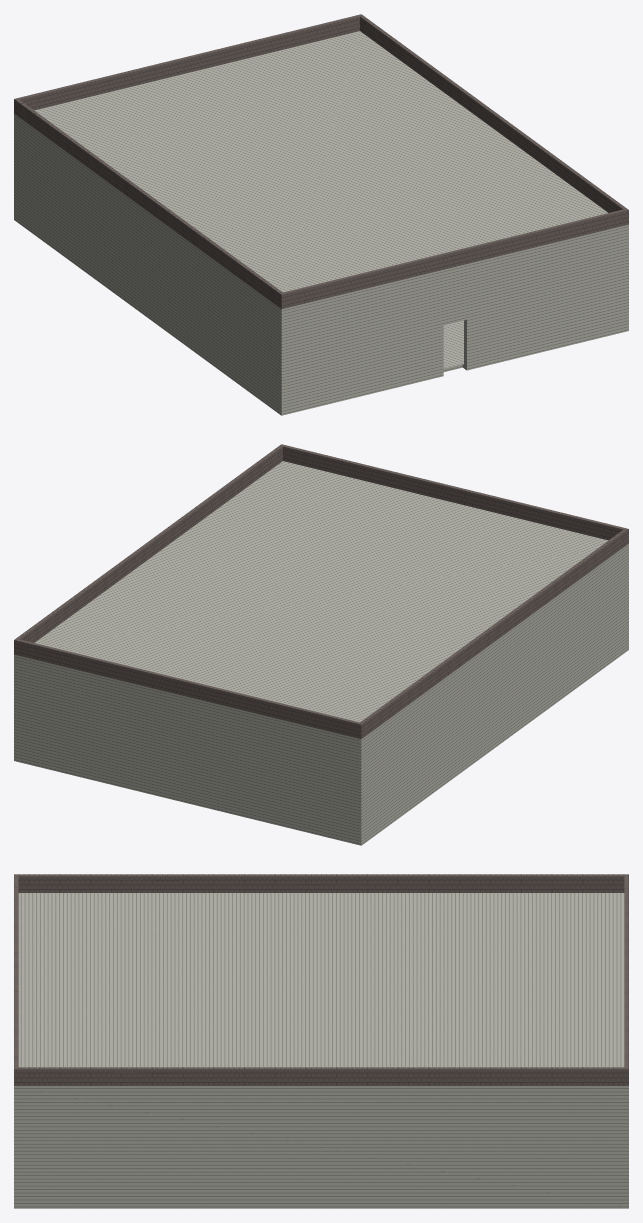
The model's file is auto_repair_shop.glb.
The picture shows the model from 3 angles, top to bottom: view 1: azimuth 30°, elevation 25°; view 2: azimuth 150°, elevation 25°; view 3: azimuth 270°, elevation 25°; orthographic projection. The views are drawn at different scales.
Visible parts, largest first — view 1: auto_repair_shop-col; view 2: auto_repair_shop-col; view 3: auto_repair_shop-col.
Boxes of the visible parts, <box> form: auto_repair_shop-col: <box>14,14,628,415</box>; auto_repair_shop-col: <box>14,444,628,845</box>; auto_repair_shop-col: <box>14,874,628,1208</box>.
Size of the model in its own units: 15 by 4.99 by 20.
2 materials, 2 textured.
